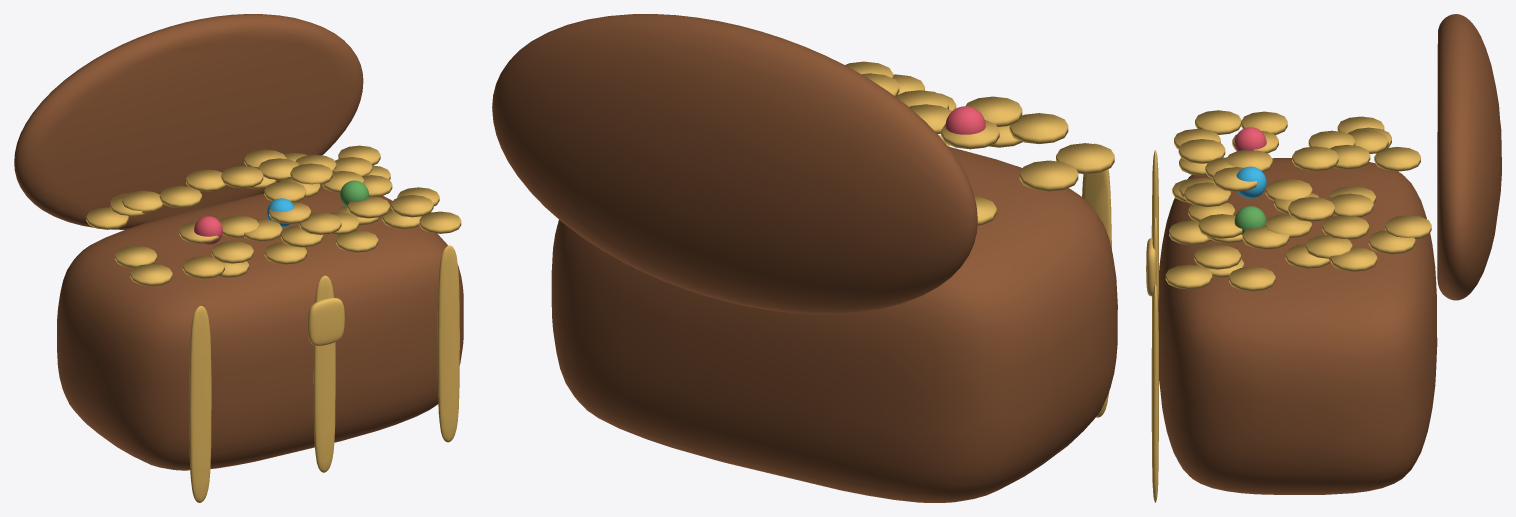
Rendered from deco_cofre.glb.
3 renders of one model, left to right at view 1: azimuth 30°, elevation 25°; view 2: azimuth 150°, elevation 25°; view 3: azimuth 270°, elevation 25°, orthographic. The views are drawn at different scales.
Visible parts, largest first — view 1: caja cofre.001, tapa cofre.001, herraje -1.001, herraje 1.001, herraje 0.001, cerradura.001, moneda 34.001, moneda 15.001, moneda 20.001, moneda 21.001, moneda 24.001, moneda 39.001 (+23 smaller); view 2: caja cofre.001, tapa cofre.001, moneda 30.001, moneda 23.001, herraje -1.001, moneda 24.001, moneda 34.001, moneda 27.001, gema cofre 0.001, moneda 31.001, moneda 36.001; view 3: caja cofre.001, tapa cofre.001, herraje 1.001, moneda 39.001, moneda 6.001, moneda 21.001, moneda 20.001, moneda 25.001, moneda 19.001, moneda 34.001, moneda 2.001, moneda 37.001 (+26 smaller).
Boxes of the visible parts, left/top/right/bottom form: caja cofre.001: left=57, top=184, right=463, bottom=470; tapa cofre.001: left=14, top=14, right=363, bottom=229; herraje -1.001: left=189, top=306, right=211, bottom=502; herraje 1.001: left=437, top=245, right=459, bottom=442; herraje 0.001: left=313, top=275, right=335, bottom=472; cerradura.001: left=307, top=298, right=344, bottom=345; moneda 34.001: left=211, top=241, right=253, bottom=263; moneda 15.001: left=159, top=186, right=201, bottom=208; moneda 20.001: left=221, top=166, right=263, bottom=188; moneda 21.001: left=391, top=195, right=433, bottom=217; moneda 24.001: left=130, top=264, right=172, bottom=286; moneda 39.001: left=419, top=211, right=461, bottom=233; caja cofre.001: left=551, top=146, right=1117, bottom=502; tapa cofre.001: left=492, top=14, right=977, bottom=314; moneda 30.001: left=1019, top=160, right=1078, bottom=191; moneda 23.001: left=1009, top=113, right=1068, bottom=143; herraje -1.001: left=1082, top=143, right=1111, bottom=417; moneda 24.001: left=1056, top=143, right=1114, bottom=174; moneda 34.001: left=965, top=96, right=1022, bottom=126; moneda 27.001: left=941, top=120, right=999, bottom=149; gema cofre 0.001: left=945, top=106, right=985, bottom=134; moneda 31.001: left=909, top=104, right=951, bottom=133; moneda 36.001: left=896, top=90, right=948, bottom=109; caja cofre.001: left=1158, top=158, right=1437, bottom=494; tapa cofre.001: left=1437, top=14, right=1501, bottom=300; herraje 1.001: left=1151, top=284, right=1158, bottom=502; moneda 39.001: left=1165, top=264, right=1212, bottom=289; moneda 6.001: left=1229, top=266, right=1275, bottom=291; moneda 21.001: left=1194, top=244, right=1240, bottom=269; moneda 20.001: left=1292, top=146, right=1338, bottom=171; moneda 25.001: left=1288, top=197, right=1334, bottom=221; moneda 19.001: left=1374, top=147, right=1420, bottom=171; moneda 34.001: left=1178, top=139, right=1225, bottom=163; moneda 2.001: left=1322, top=216, right=1368, bottom=239; moneda 37.001: left=1184, top=182, right=1230, bottom=206.
Bounding box in the file's own units: 0.4795 × 0.4585 × 0.381.
